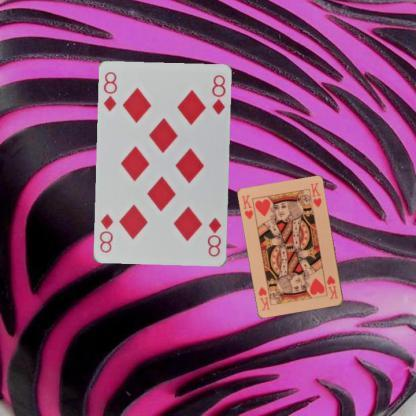8d: (204, 214, 223, 258), (101, 69, 119, 114)
Kh: (239, 192, 255, 221), (324, 274, 339, 300)
